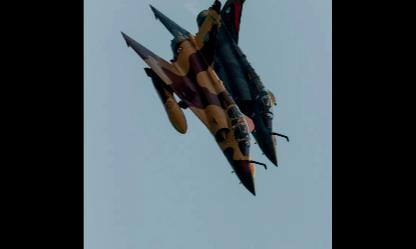Mirage2000: (121, 0, 268, 197), (149, 0, 290, 168)
